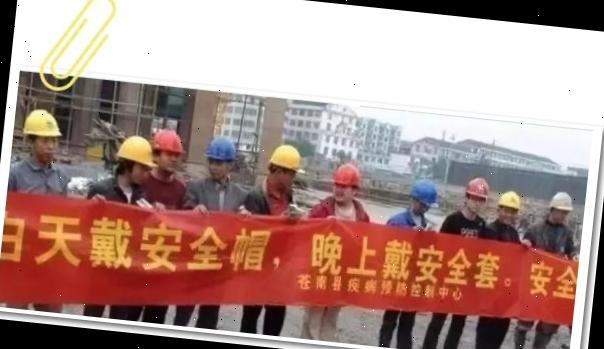helmet: (16, 106, 67, 142), (112, 133, 159, 167), (200, 133, 246, 163), (268, 142, 308, 170), (150, 126, 188, 153), (333, 160, 364, 190), (410, 178, 440, 205), (464, 174, 490, 202), (494, 187, 526, 209), (546, 189, 576, 211)
